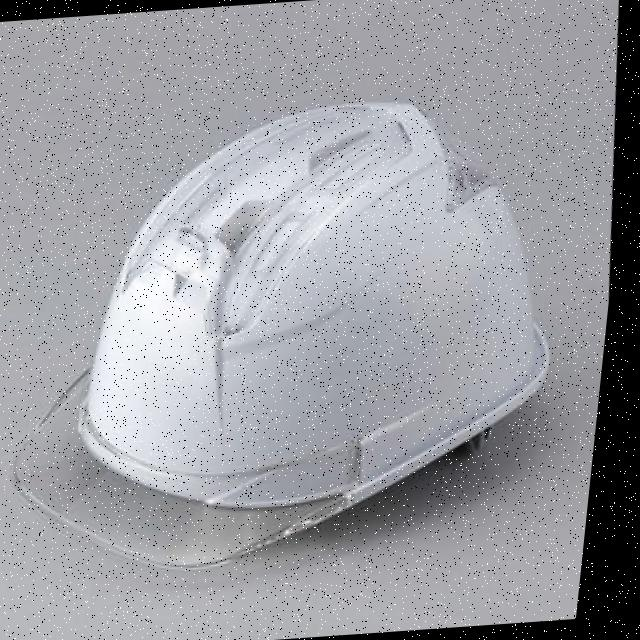illegal_helmet: (0, 76, 603, 588)
